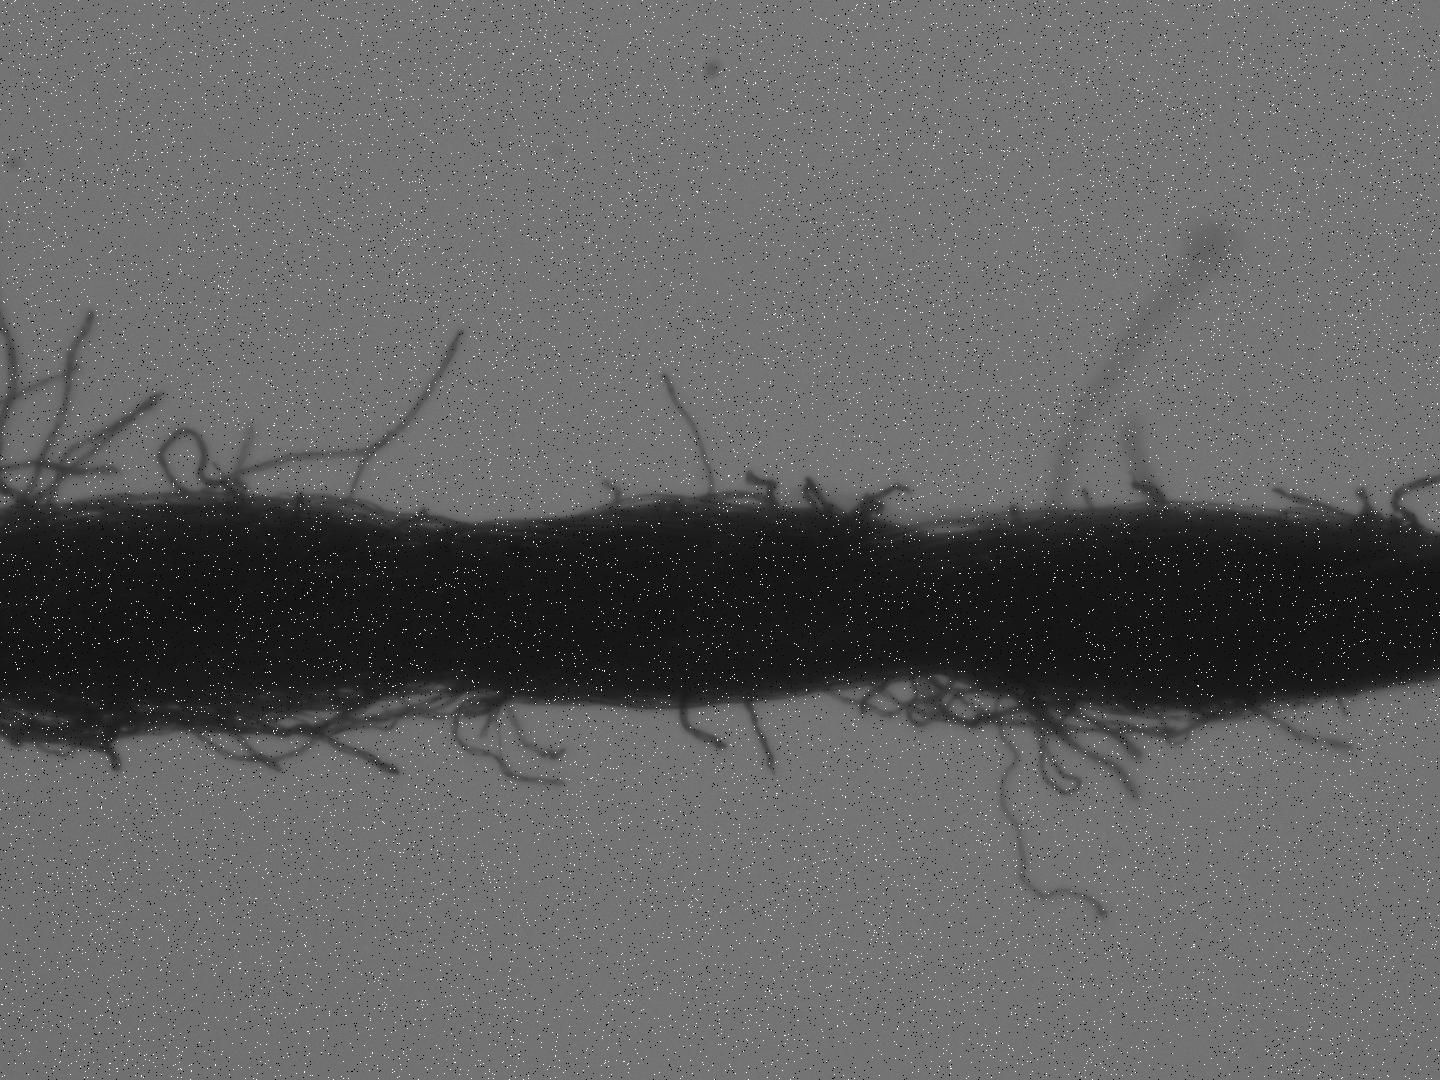loop_fiber: (187, 693, 382, 766), (957, 682, 1205, 735), (925, 680, 1062, 727), (158, 428, 239, 504), (1069, 699, 1222, 735), (829, 678, 946, 720), (874, 507, 1034, 537), (332, 686, 464, 719), (399, 687, 520, 718), (586, 483, 696, 514), (15, 703, 113, 735), (686, 488, 778, 512), (923, 673, 983, 695), (1193, 703, 1260, 720)
protruding_fiber: (210, 324, 471, 493), (34, 393, 162, 511), (20, 313, 90, 512), (1026, 694, 1137, 800), (657, 373, 715, 507), (1256, 704, 1347, 756), (508, 702, 562, 757), (677, 695, 727, 749), (753, 702, 776, 770)
